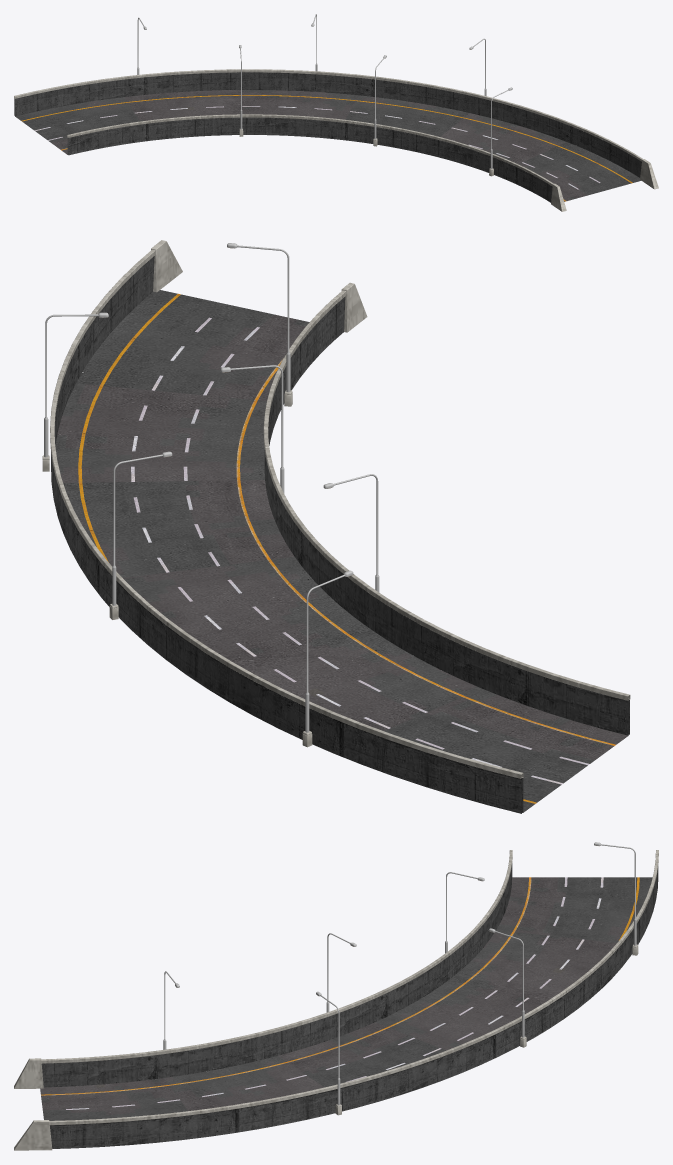
File: roadU.gltf
The picture shows the model from 3 angles, top to bottom: view 1: azimuth 30°, elevation 25°; view 2: azimuth 150°, elevation 25°; view 3: azimuth 270°, elevation 25°; orthographic projection. The views are drawn at different scales.
Parts seen in each view (by area): view 1: 道路17; view 2: 道路17; view 3: 道路17.
Part boxes in pixels (bbox=[...]): 道路17: bbox=[14, 14, 658, 211]; 道路17: bbox=[42, 240, 630, 813]; 道路17: bbox=[14, 842, 658, 1150].
Bounding box in the file's own units: 53.78 × 9.82 × 53.61.
Materials: 5 (3 with a texture image).
